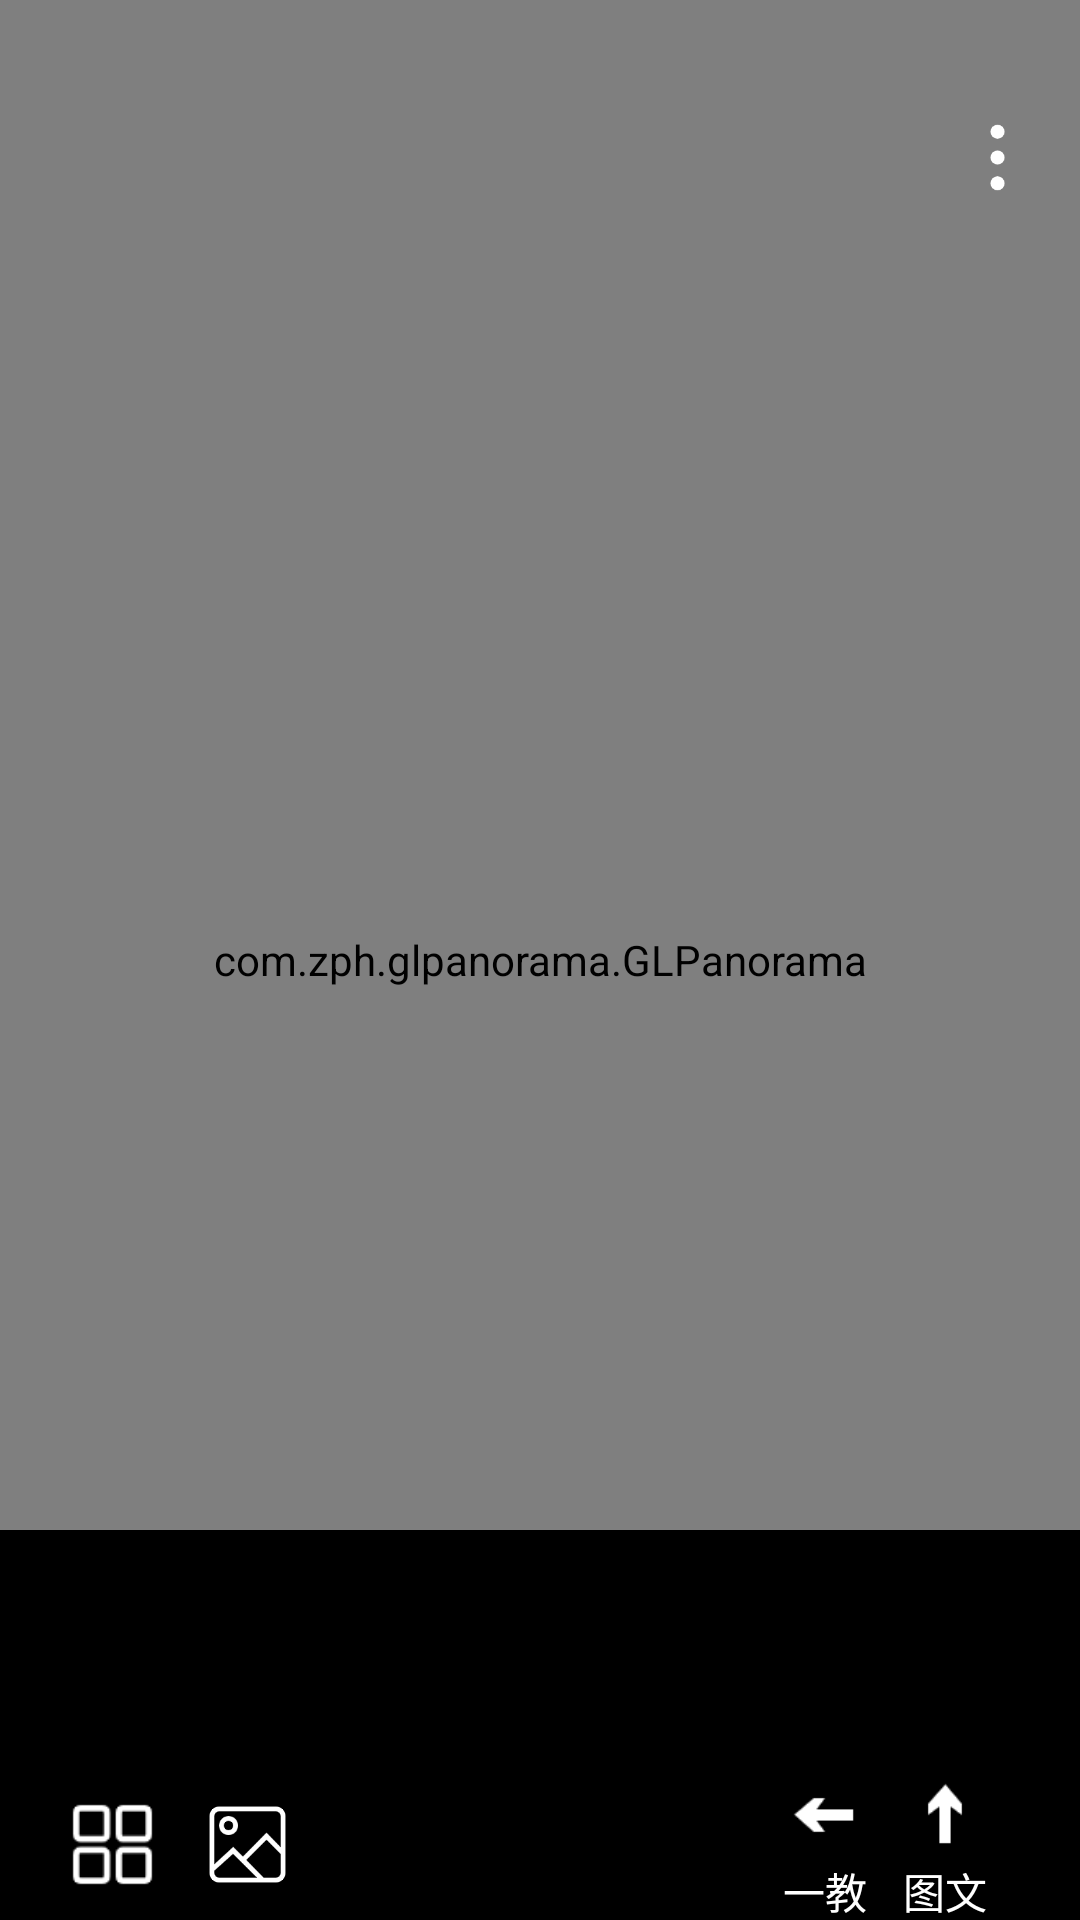

Named icons in this screenshot (1080w x 1920h) and their bounding boxes, (x1, y1, x2, y2):
left: (794, 1798, 854, 1832)
menu: (990, 125, 1005, 190)
straight: (928, 1784, 962, 1844)
views: (72, 1804, 153, 1885)
